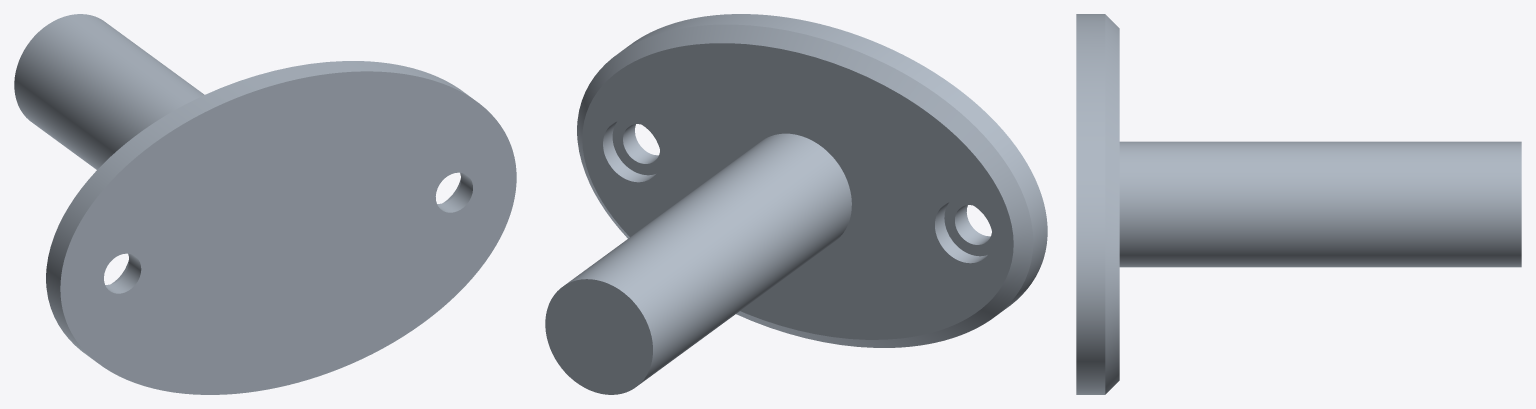
File: washer-a-13.glb
The picture shows the model from 3 angles, left to right: view 1: azimuth 30°, elevation 25°; view 2: azimuth 150°, elevation 25°; view 3: azimuth 270°, elevation 25°; orthographic projection.
Parts seen in each view (by area): view 1: Bracket; view 2: Bracket; view 3: Bracket.
Boxes of the visible parts, x1=… form: Bracket: x1=14, y1=14, x2=516, y2=394; Bracket: x1=545, y1=14, x2=1047, y2=394; Bracket: x1=1076, y1=14, x2=1521, y2=394.
Bounding box in the file's own units: 0.055 × 0.035 × 0.046.
